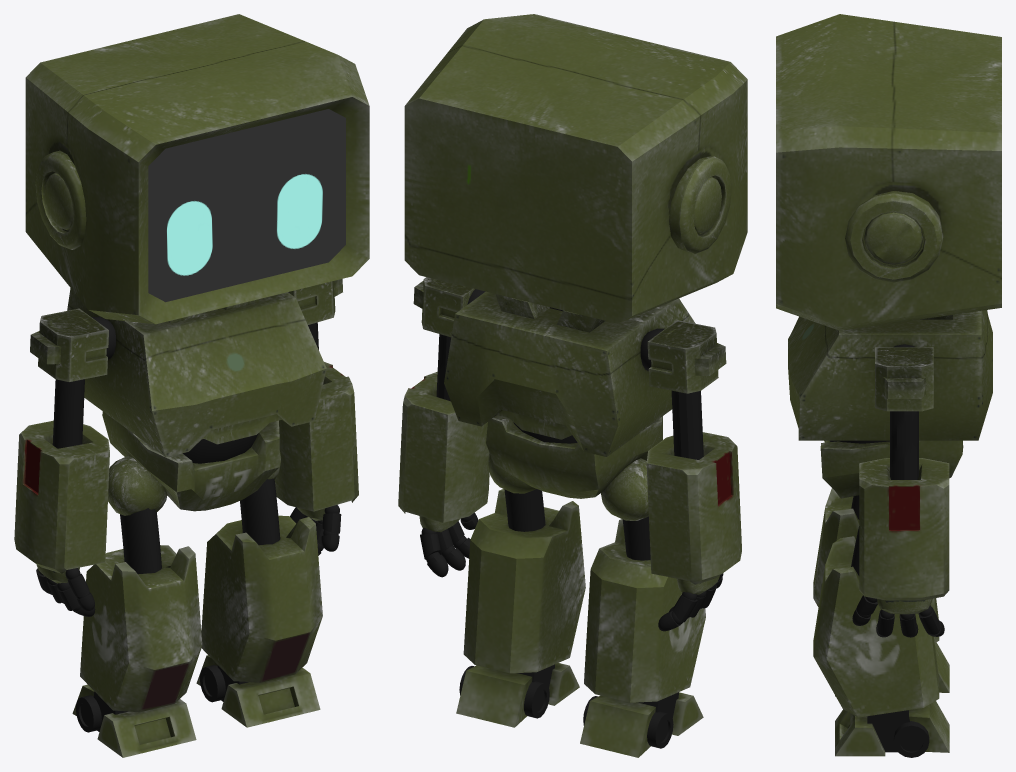
The model's file is Small.glb.
The picture shows the model from 3 angles, left to right: view 1: azimuth 30°, elevation 25°; view 2: azimuth 150°, elevation 25°; view 3: azimuth 270°, elevation 25°; orthographic projection.
Visible parts, largest first — view 1: Cube.034, Cube.002, Cube.035, Cube.001, Cube.037, Cube.003, Cube.043, Cube.006, NurbsPath.002, Cylinder.005, Cube.044, NurbsPath.003 (+5 smaller); view 2: Cube.034, Cube.002, Cube.001, Cube.037, Cube.043, Cube.005, Cube.006, Cylinder.005, Cube.044, NurbsPath.003, NurbsPath.002, Cube.003 (+8 smaller); view 3: Cube.034, Cube.001, Cube.002, Cube.037, Cylinder.005, Cube.043, Cube.006, NurbsPath.003, Cube.003, Cube.005, Cylinder.004, Cube.004 (+3 smaller).
Boxes of the visible parts, x1,y1,x2,y2 form: Cube.034: [25, 14, 369, 324]; Cube.002: [80, 515, 322, 712]; Cube.035: [148, 109, 345, 302]; Cube.001: [67, 288, 326, 457]; Cube.037: [14, 362, 358, 573]; Cube.003: [97, 667, 320, 757]; Cube.043: [102, 411, 279, 511]; Cube.006: [38, 281, 335, 381]; NurbsPath.002: [120, 478, 280, 573]; Cylinder.005: [35, 150, 86, 249]; Cube.044: [108, 450, 281, 515]; NurbsPath.003: [52, 322, 318, 448]; Cube.034: [404, 14, 747, 323]; Cube.002: [463, 489, 705, 702]; Cube.001: [444, 291, 695, 456]; Cube.037: [398, 371, 741, 584]; Cube.043: [486, 415, 662, 498]; Cube.005: [456, 665, 655, 757]; Cube.006: [421, 277, 718, 393]; Cylinder.005: [669, 155, 731, 253]; Cube.044: [488, 452, 648, 520]; NurbsPath.003: [436, 334, 703, 459]; NurbsPath.002: [504, 489, 650, 560]; Cube.003: [548, 663, 703, 735]; Cube.034: [776, 14, 1001, 330]; Cube.001: [788, 310, 992, 440]; Cube.002: [813, 488, 939, 717]; Cube.037: [859, 458, 949, 600]; Cylinder.005: [845, 191, 943, 282]; Cube.043: [820, 440, 963, 498]; Cube.006: [875, 347, 933, 411]; NurbsPath.003: [890, 411, 918, 479]; Cube.003: [835, 695, 885, 756]; Cube.005: [909, 642, 949, 752]; Cylinder.004: [893, 721, 929, 757]; Cube.004: [867, 710, 909, 752].
Size of the model in its own units: 0.6972 by 1.34 by 0.4281.
3 materials, 3 textured.
